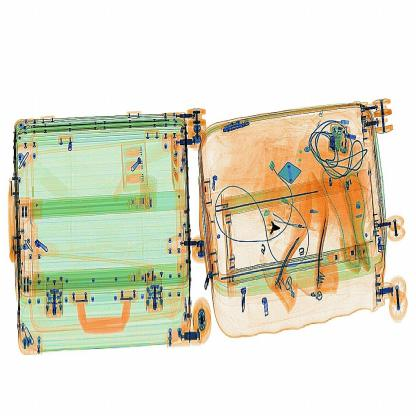gun: (259, 208, 286, 245)
